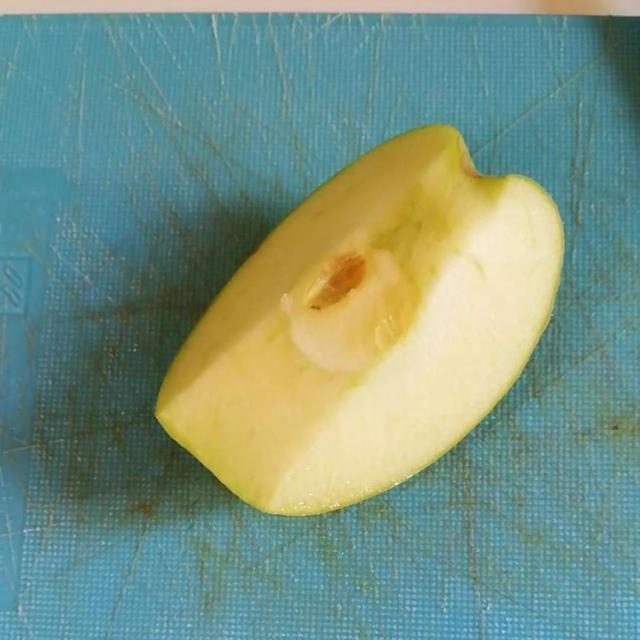apple: (164, 137, 562, 514)
